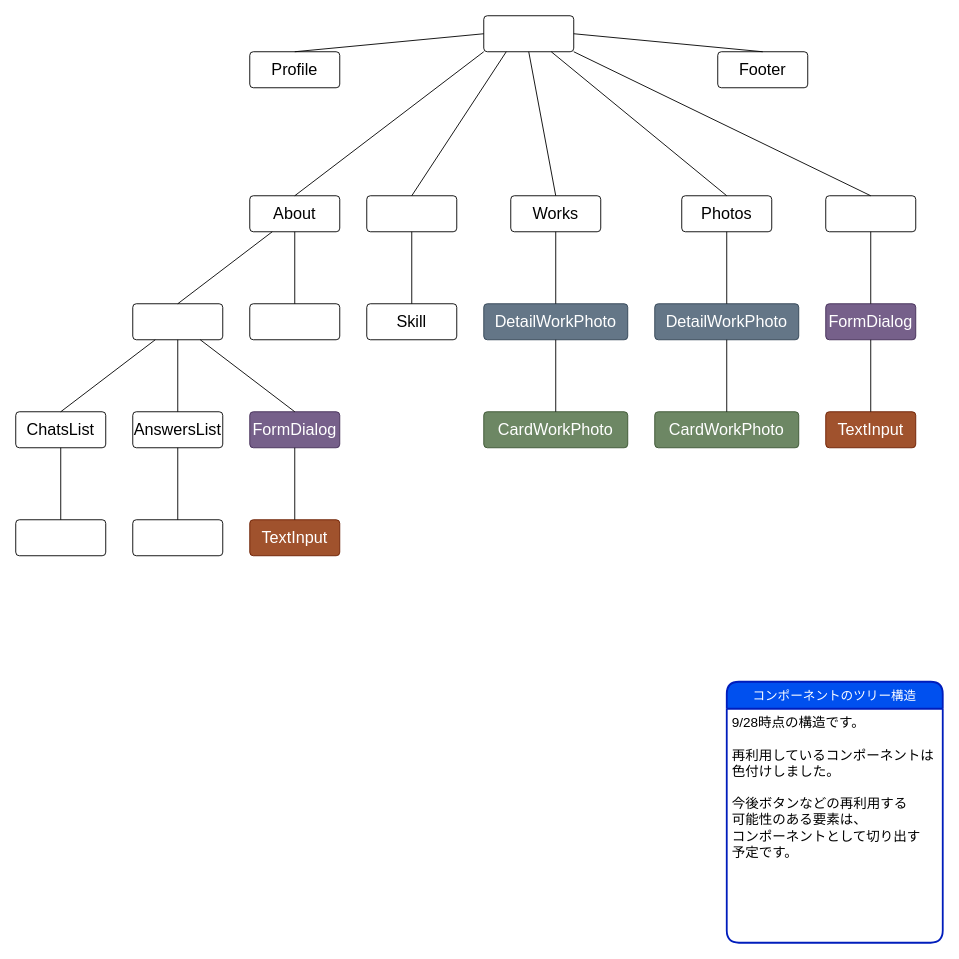
Some shapes in this 959 by 959 pixel diagram are drawn without their labels. The shapes that lost their labels are listed below. From the top down, each one's centre as x and y in pixels, then its label:
the point at 528,33: Contents
the point at 411,213: Skills
the point at 870,213: Contact
the point at 177,321: ChatBot
the point at 294,321: DetailMe
the point at 60,537: Chat
the point at 177,537: Answer
